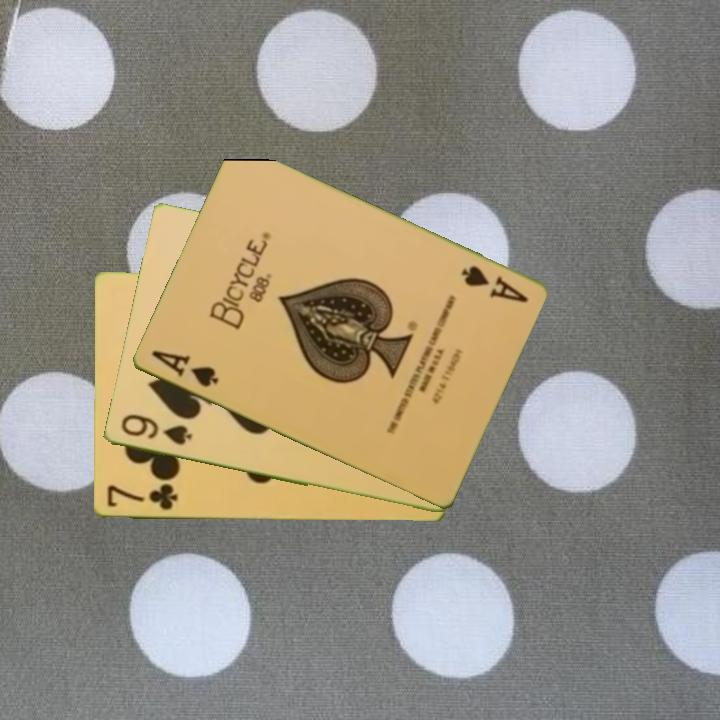7c: (103, 482, 180, 514)
9s: (117, 411, 195, 449)
As: (456, 262, 531, 306), (147, 347, 221, 391)
